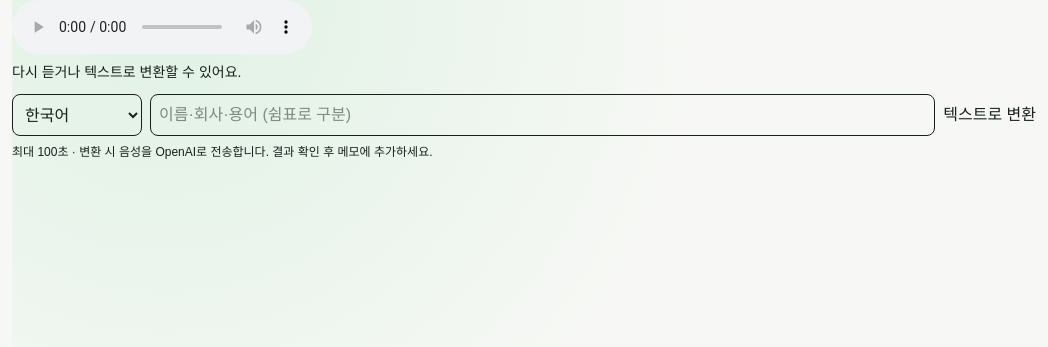
recording page transcription › retains playable audio and allows retry after provider failure
Click the button "텍스트로 변환" at point(990, 115), box [943,94,1036,136]
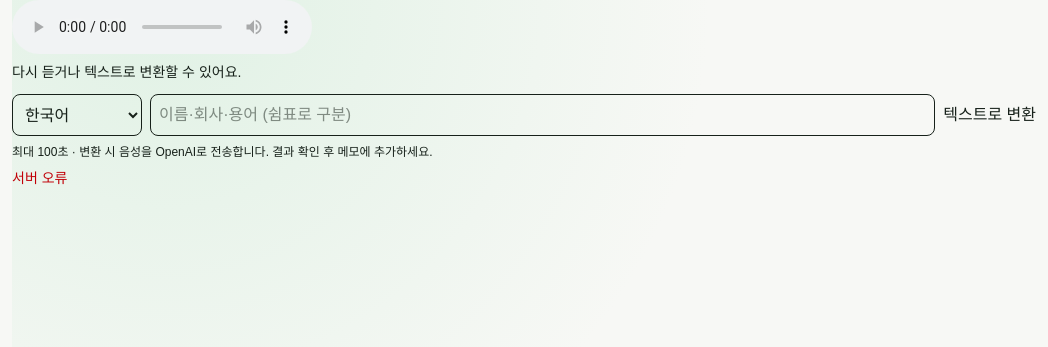
Expected: the text "서버 오류" is shown, [12,170,67,186]
Click the button "텍스트로 변환" at point(990, 115), box [943,94,1036,136]
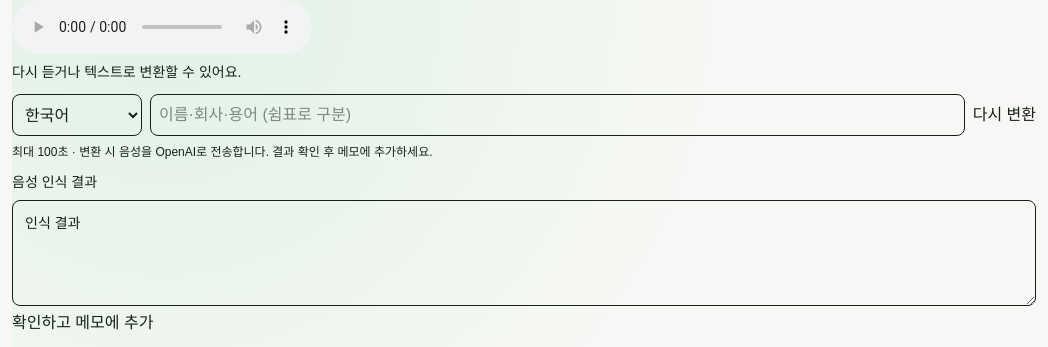
Expected: the text box named "녹음 인식 결과" is shown, [12,200,1036,306]
